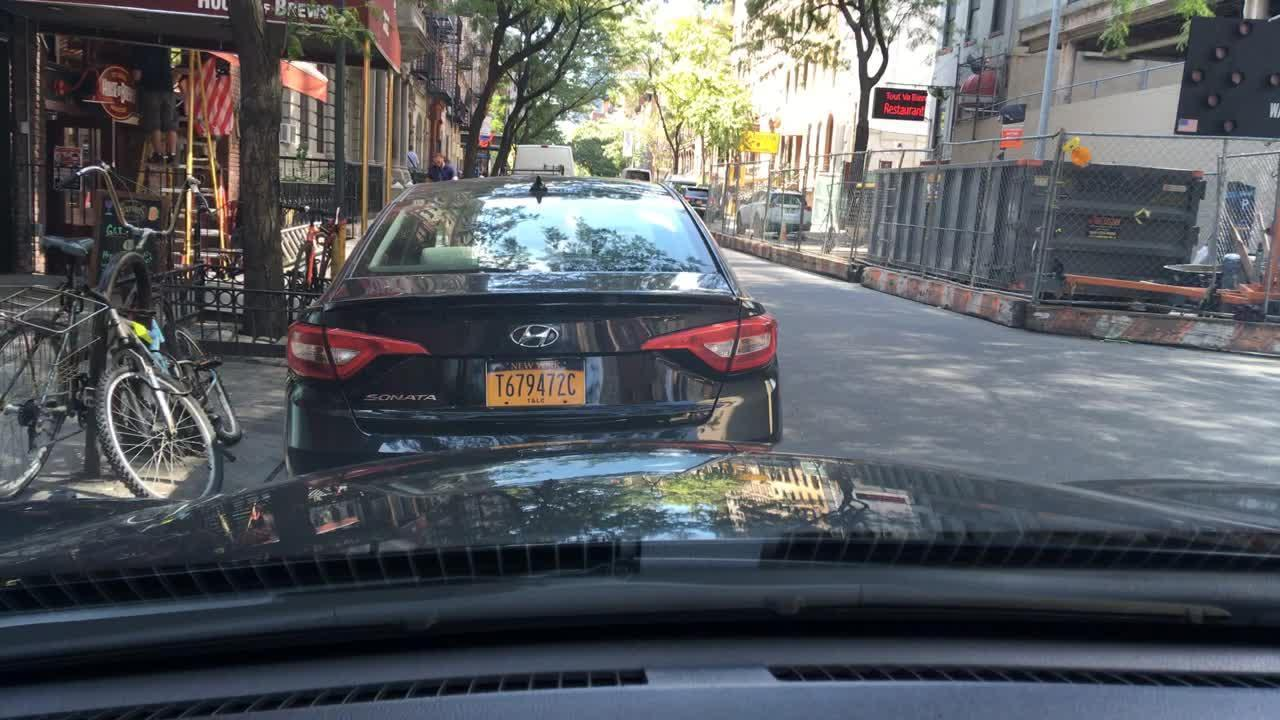Hyundai: (493, 317, 576, 354)
